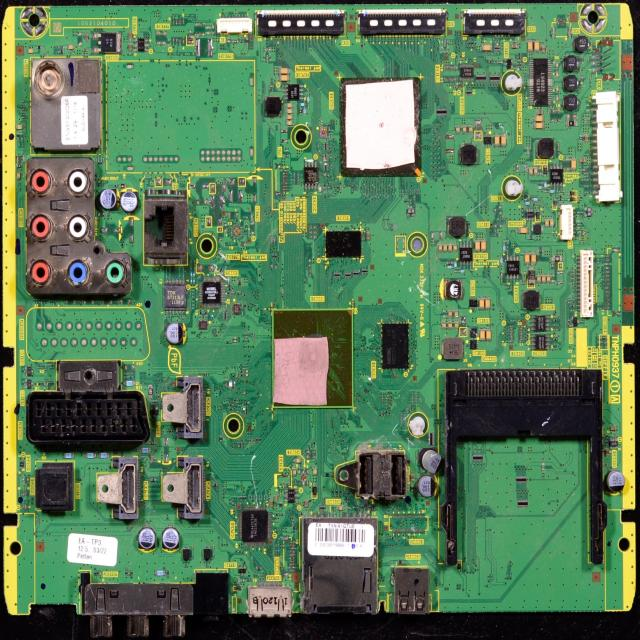Capacitor Jumper: (422, 448, 445, 476), (606, 470, 626, 494), (418, 477, 438, 498), (166, 323, 184, 346), (138, 528, 156, 550), (162, 528, 179, 551), (120, 190, 137, 213), (100, 189, 116, 211), (481, 43, 493, 53), (474, 238, 482, 252), (533, 121, 545, 130), (518, 226, 530, 235), (570, 158, 578, 170), (494, 134, 501, 147), (279, 74, 290, 82), (533, 114, 544, 122), (527, 40, 534, 52), (485, 328, 492, 340), (481, 239, 487, 252), (523, 253, 530, 264), (530, 253, 537, 264), (534, 40, 540, 52), (485, 298, 491, 310), (480, 328, 486, 340), (280, 67, 290, 74), (454, 124, 461, 134), (480, 297, 485, 311), (447, 309, 454, 319), (528, 166, 534, 177), (442, 242, 448, 253), (501, 134, 506, 146), (549, 218, 555, 228), (541, 274, 547, 284), (273, 493, 278, 504), (537, 274, 542, 285), (311, 467, 317, 476), (453, 309, 459, 318), (269, 498, 274, 508), (533, 166, 538, 176), (545, 219, 550, 229), (448, 242, 453, 252), (453, 242, 458, 252), (546, 274, 551, 284), (286, 102, 293, 109), (294, 458, 302, 464), (462, 125, 468, 133), (447, 322, 453, 330), (292, 468, 297, 477), (338, 505, 344, 512), (286, 108, 293, 114), (287, 119, 293, 126), (304, 498, 308, 508), (286, 115, 294, 120), (468, 125, 473, 133), (438, 242, 442, 252), (442, 320, 446, 330), (454, 321, 458, 328)
IC: (272, 307, 355, 409), (339, 77, 421, 177), (301, 516, 378, 615), (590, 92, 620, 203), (238, 506, 272, 548), (381, 322, 410, 370), (577, 250, 594, 318), (528, 58, 551, 107), (325, 230, 361, 260), (199, 278, 226, 308), (505, 255, 521, 280), (304, 161, 318, 189), (459, 241, 473, 267), (530, 333, 550, 351), (530, 316, 551, 332), (549, 165, 563, 188), (460, 64, 475, 79), (526, 208, 534, 222), (551, 255, 562, 261)
Resistor Jumper: (93, 33, 121, 53), (284, 488, 299, 504), (134, 37, 148, 52), (551, 256, 562, 262), (553, 199, 557, 209)
iC: (283, 84, 303, 100)
